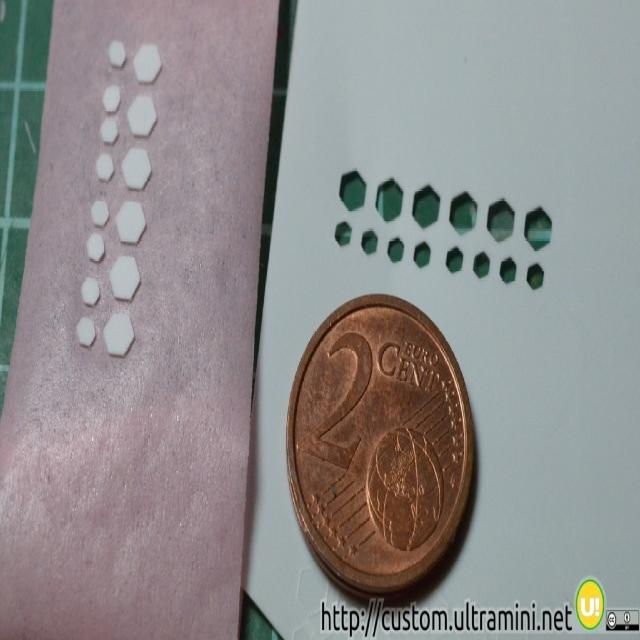Coin: (286, 283, 479, 598)
